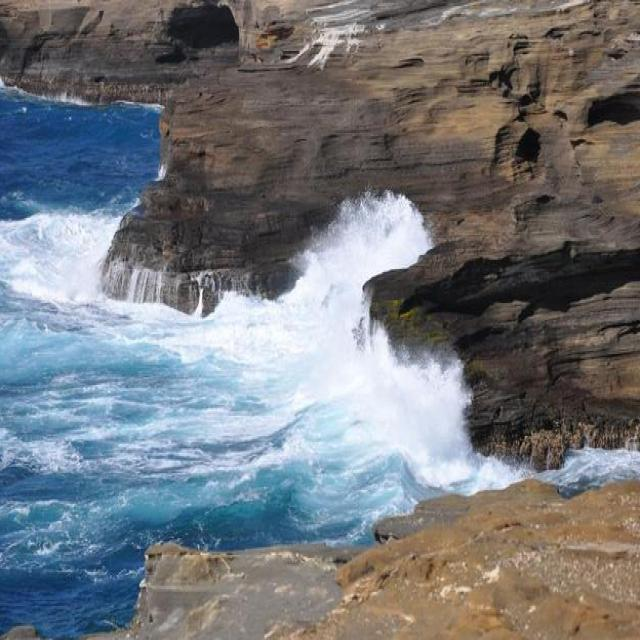reef: (124, 80, 555, 527)
